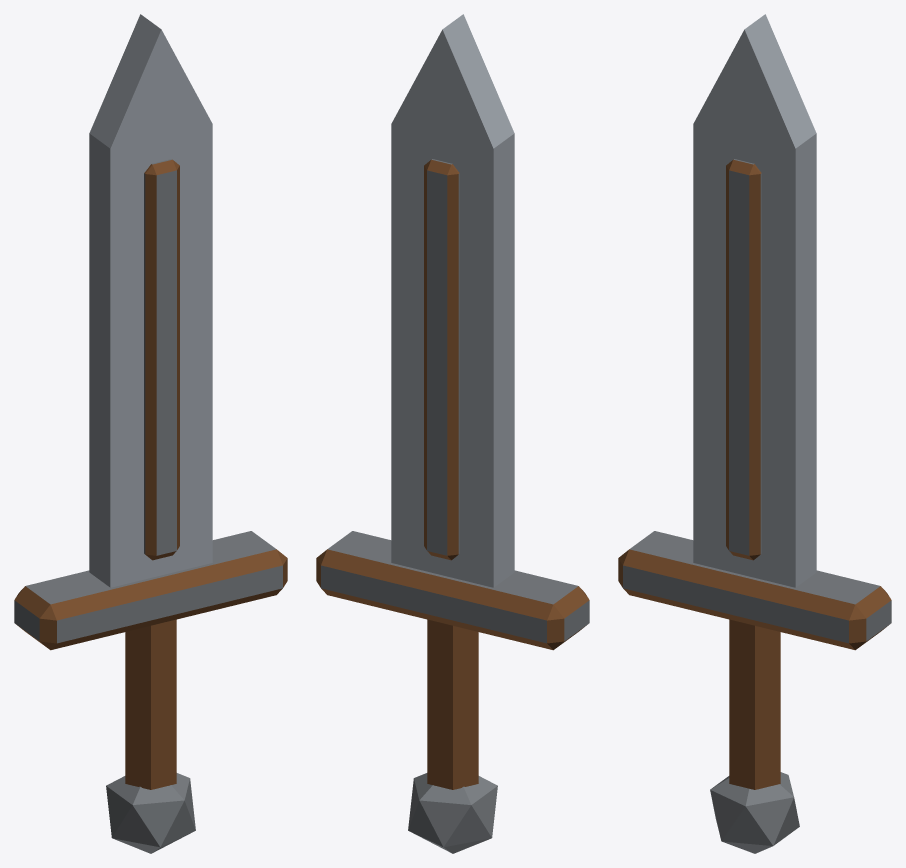
The model's file is iron_sword.glb.
3 renders of one model, left to right at view 1: azimuth 30°, elevation 25°; view 2: azimuth 150°, elevation 25°; view 3: azimuth 330°, elevation 25°, orthographic.
Parts seen in each view (by area): view 1: iron_sword; view 2: iron_sword; view 3: iron_sword.
Part boxes in pixels (x1=…): iron_sword: x1=14, y1=14, x2=287, y2=853; iron_sword: x1=316, y1=14, x2=589, y2=853; iron_sword: x1=618, y1=14, x2=891, y2=853.
Bounding box in the file's own units: 0.34 × 1.09 × 0.1021.
